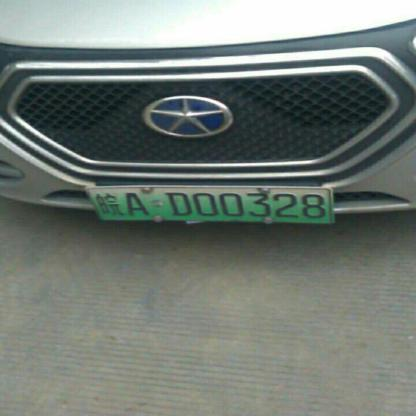lp: (85, 187, 334, 223)
